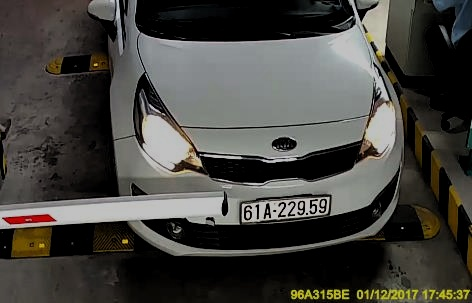plate: (238, 193, 332, 225)
